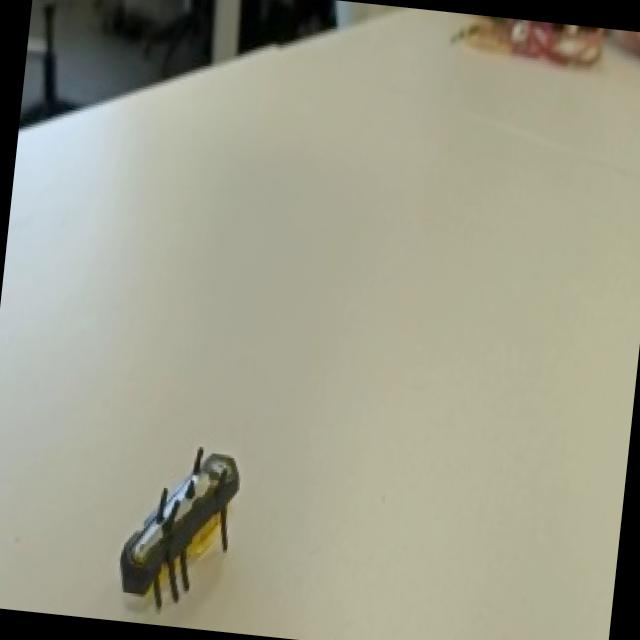6_NanoBug_GrisOscuro: (96, 412, 288, 612)
